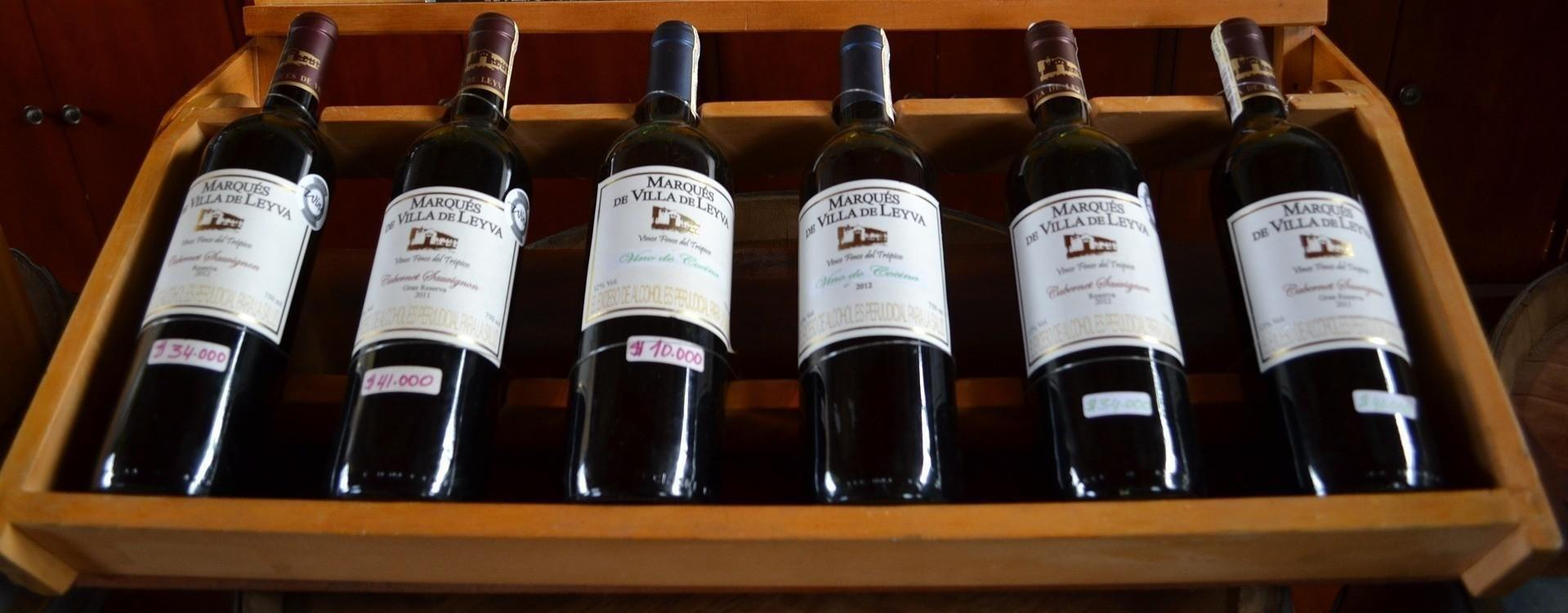bottle-glass: (84, 4, 357, 495), (1205, 11, 1456, 514), (329, 6, 552, 506), (998, 10, 1202, 504), (558, 14, 739, 506), (787, 16, 958, 499)
